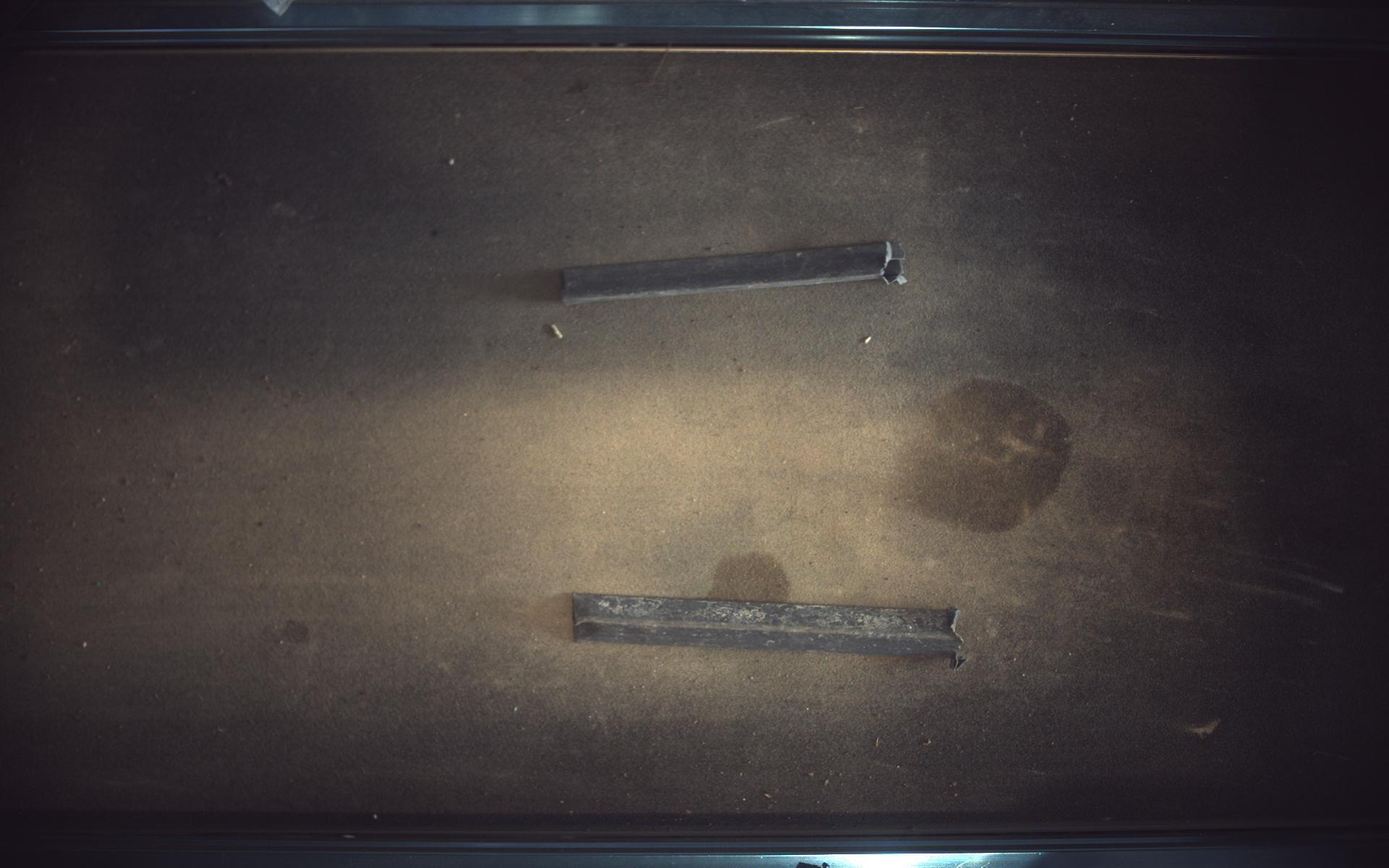plastic: (573, 595, 964, 668), (562, 240, 909, 303)
